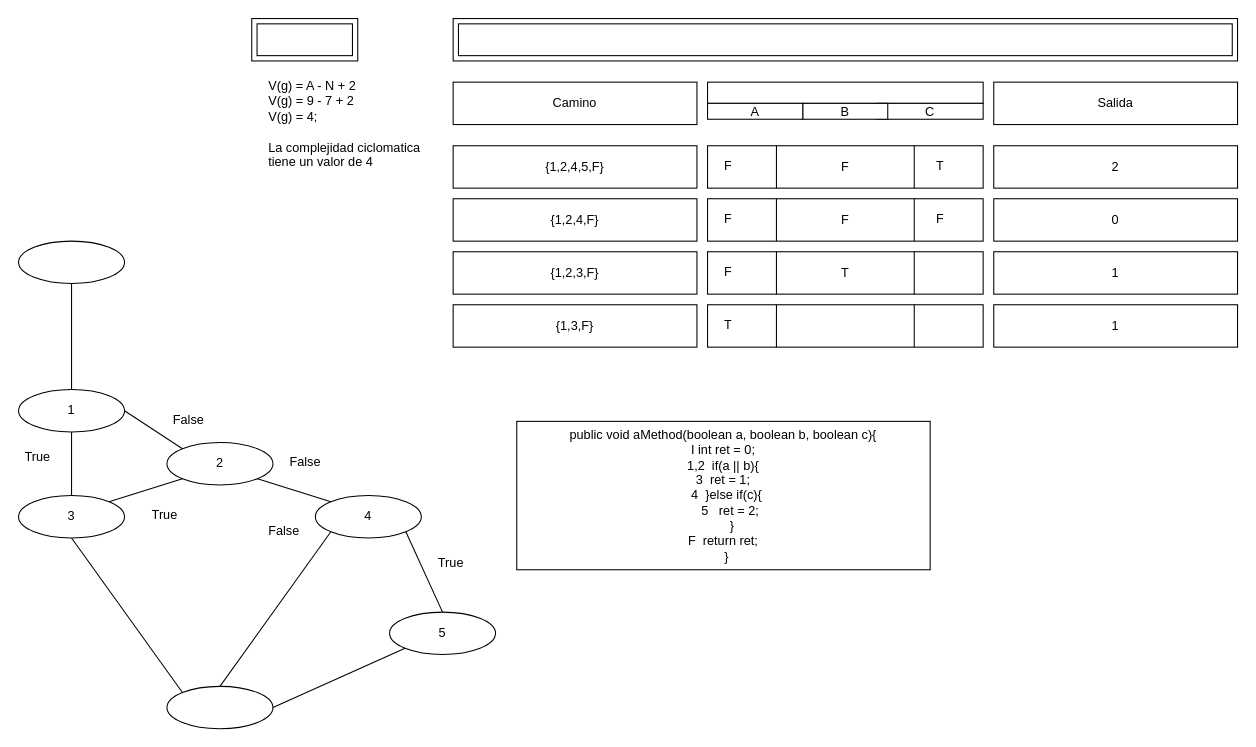
This 1256x747 diagram has some shape labels left out. Here are the shapes that lost their labels. From the top down, the centre of each, then its label:
At (x=304, y=39): "Complejidad Ciclomática".
At (x=845, y=39): "Prueba del camino basico".
At (x=844, y=92): "Entrada".
At (x=71, y=262): "Inicio".
At (x=219, y=707): "Final".
